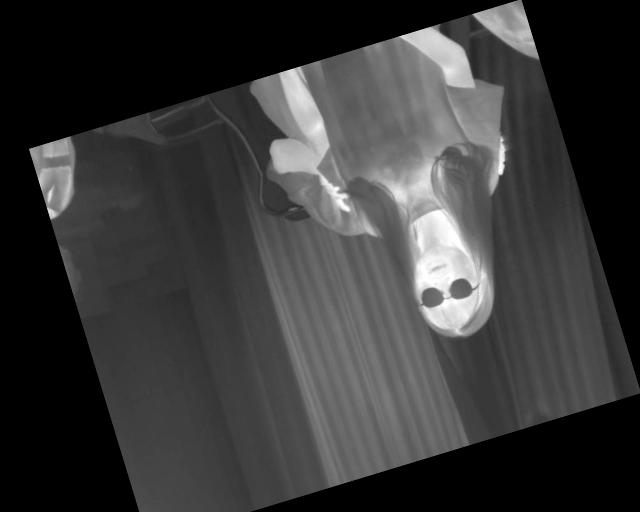face: (401, 230, 501, 349)
